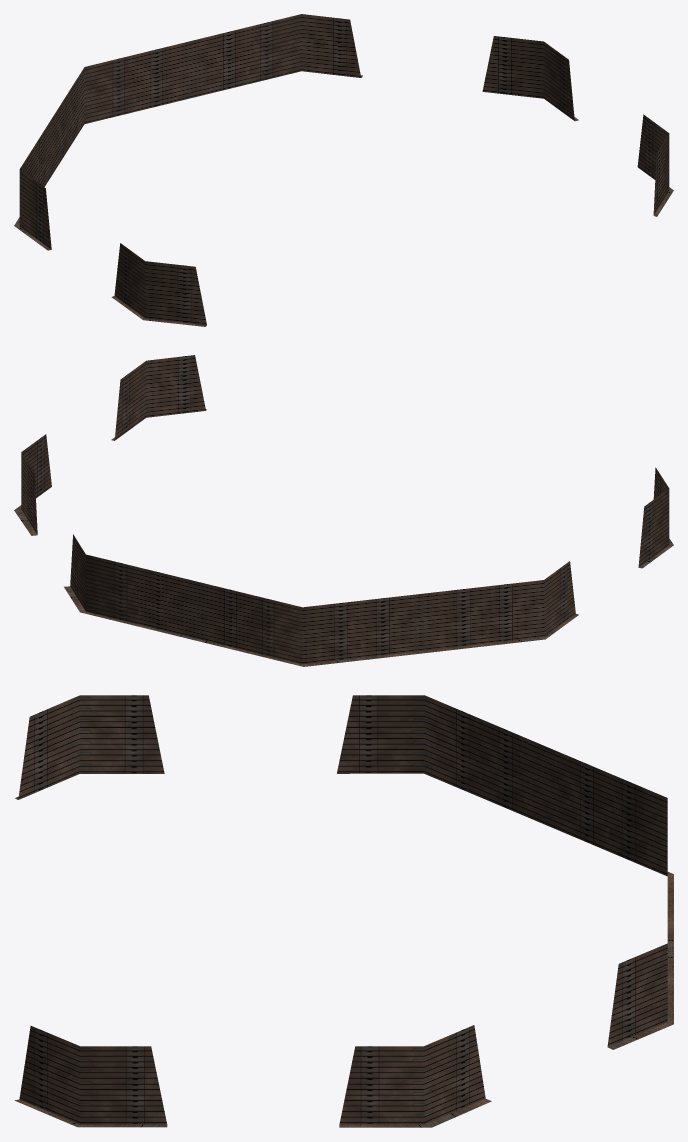
Rendered from storm_shutters.FBX.
3 views of the same model, one above another, from view 1: azimuth 30°, elevation 25°; view 2: azimuth 150°, elevation 25°; view 3: azimuth 270°, elevation 25° (orthographic). The views are drawn at different scales.
Parts seen in each view (by area): view 1: storm_shutters; view 2: storm_shutters; view 3: storm_shutters.
Part boxes in pixels (x1,y1,x2,y2): storm_shutters: [14, 14, 673, 326]; storm_shutters: [14, 355, 673, 666]; storm_shutters: [14, 695, 673, 1127].
Bounding box in the file's own units: 102812 × 10570 × 80475.
1 material, 1 textured.
